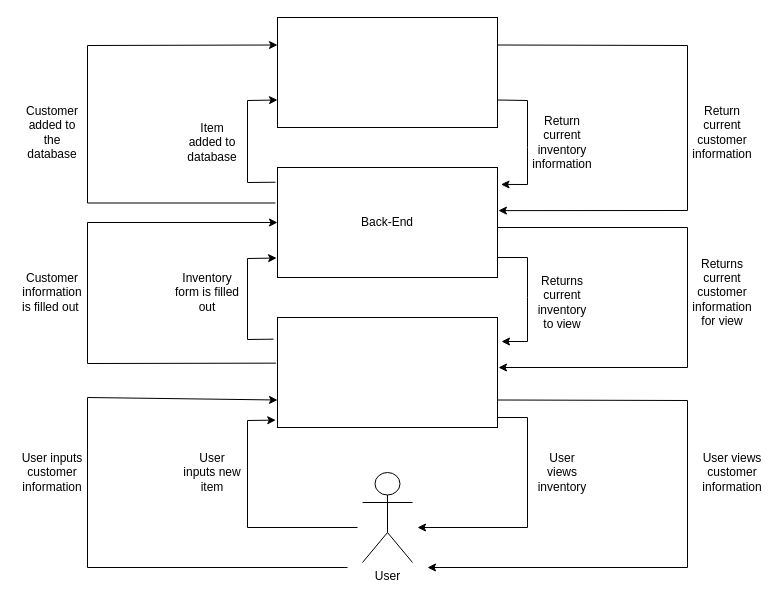
This 784x601 diagram has some shape labels left out. The centre of each missing label's shape, as x and y in pixels:
Database: the point at 387,72
Front-End: the point at 387,372
